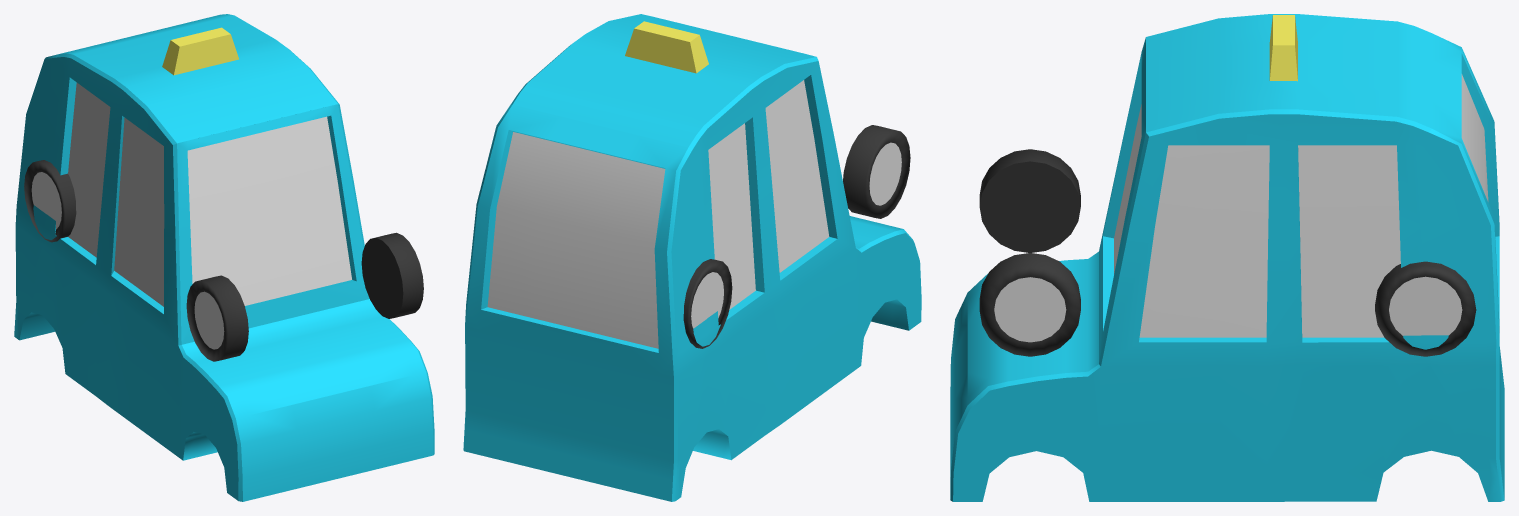
Rendered from car P.fbx.
The picture shows the model from 3 angles, left to right: view 1: azimuth 30°, elevation 25°; view 2: azimuth 150°, elevation 25°; view 3: azimuth 270°, elevation 25°; orthographic projection. The views are drawn at different scales.
Visible parts, largest first — view 1: car_P_chasis, car_P_wheels; view 2: car_P_chasis, car_P_wheels; view 3: car_P_chasis, car_P_wheels.
Boxes of the visible parts, x1,y1,x2,y2 form: car_P_chasis: (14,14,434,501); car_P_wheels: (24,160,423,361); car_P_chasis: (463,14,921,501); car_P_wheels: (683,125,910,348); car_P_chasis: (950,14,1504,501); car_P_wheels: (979,149,1476,356).
Bounding box in the file's own units: 76.25 × 127 × 154.
